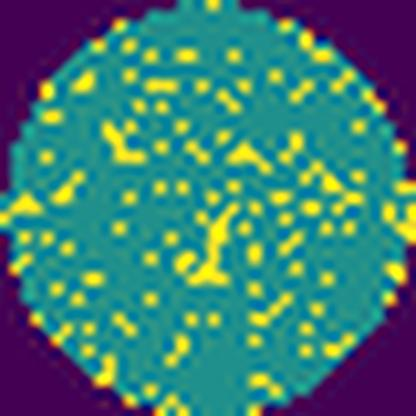Loc: (173, 202, 241, 286), (99, 119, 147, 166), (226, 138, 275, 176)
